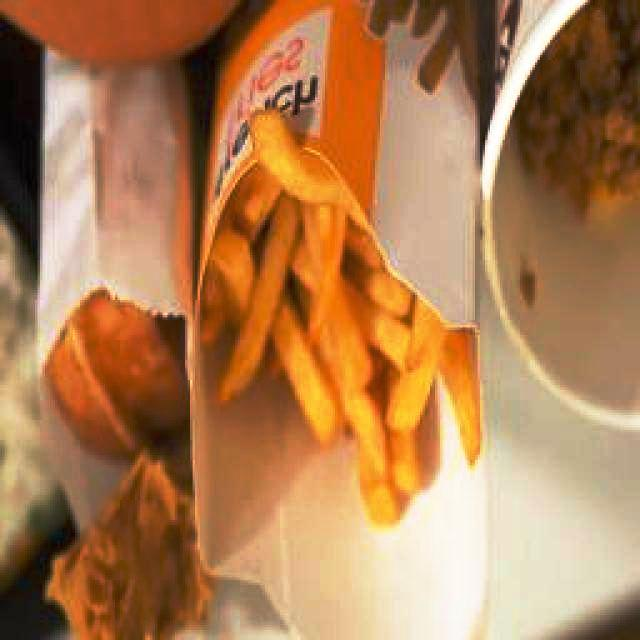french fries: (197, 105, 483, 528)
